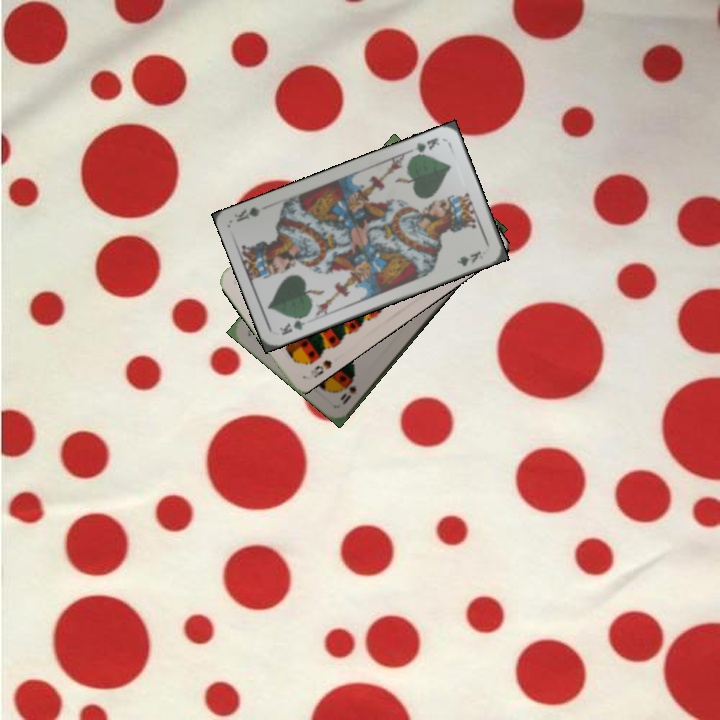GK: (405, 133, 442, 160), (276, 310, 310, 338)
S8: (303, 355, 334, 381)
SO: (336, 375, 359, 407)
